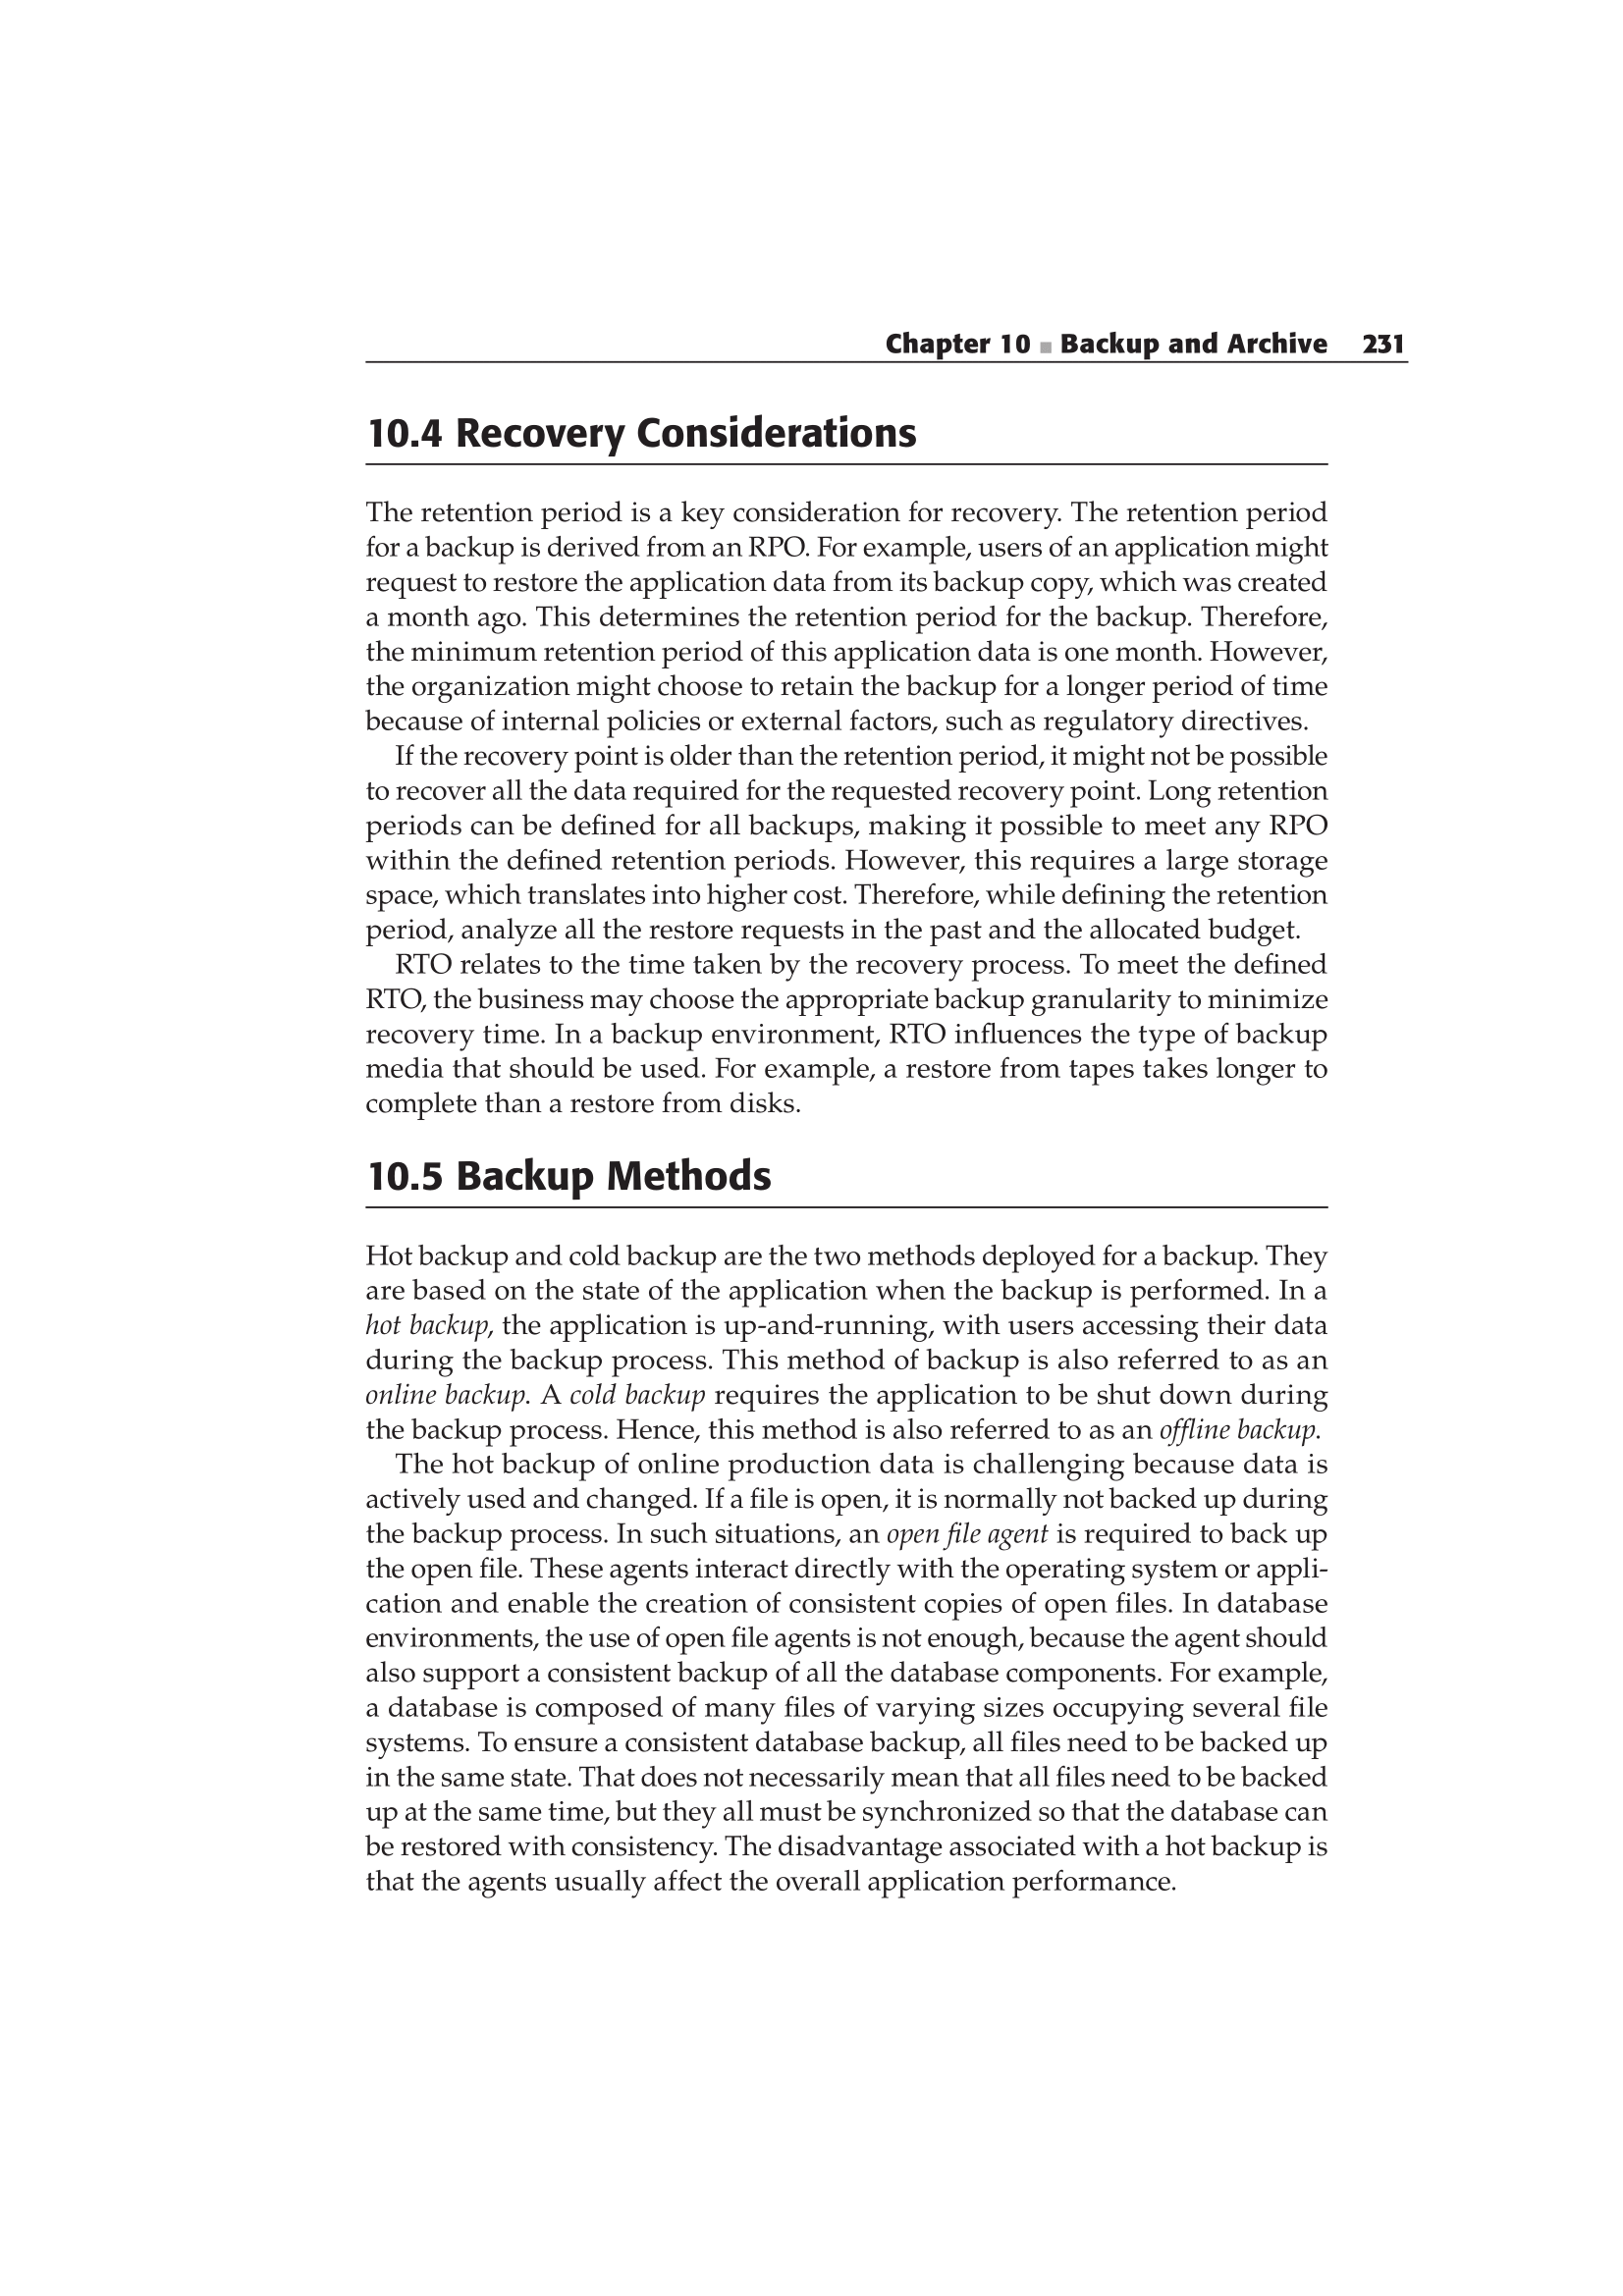Paragraph: (313, 1223, 1352, 1910), (309, 497, 1402, 1129), (316, 398, 1158, 481), (789, 276, 1447, 367), (306, 1132, 956, 1201)
